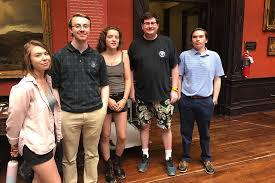Person: (62, 18, 108, 183), (131, 14, 172, 169), (181, 23, 220, 172), (15, 42, 55, 183)
